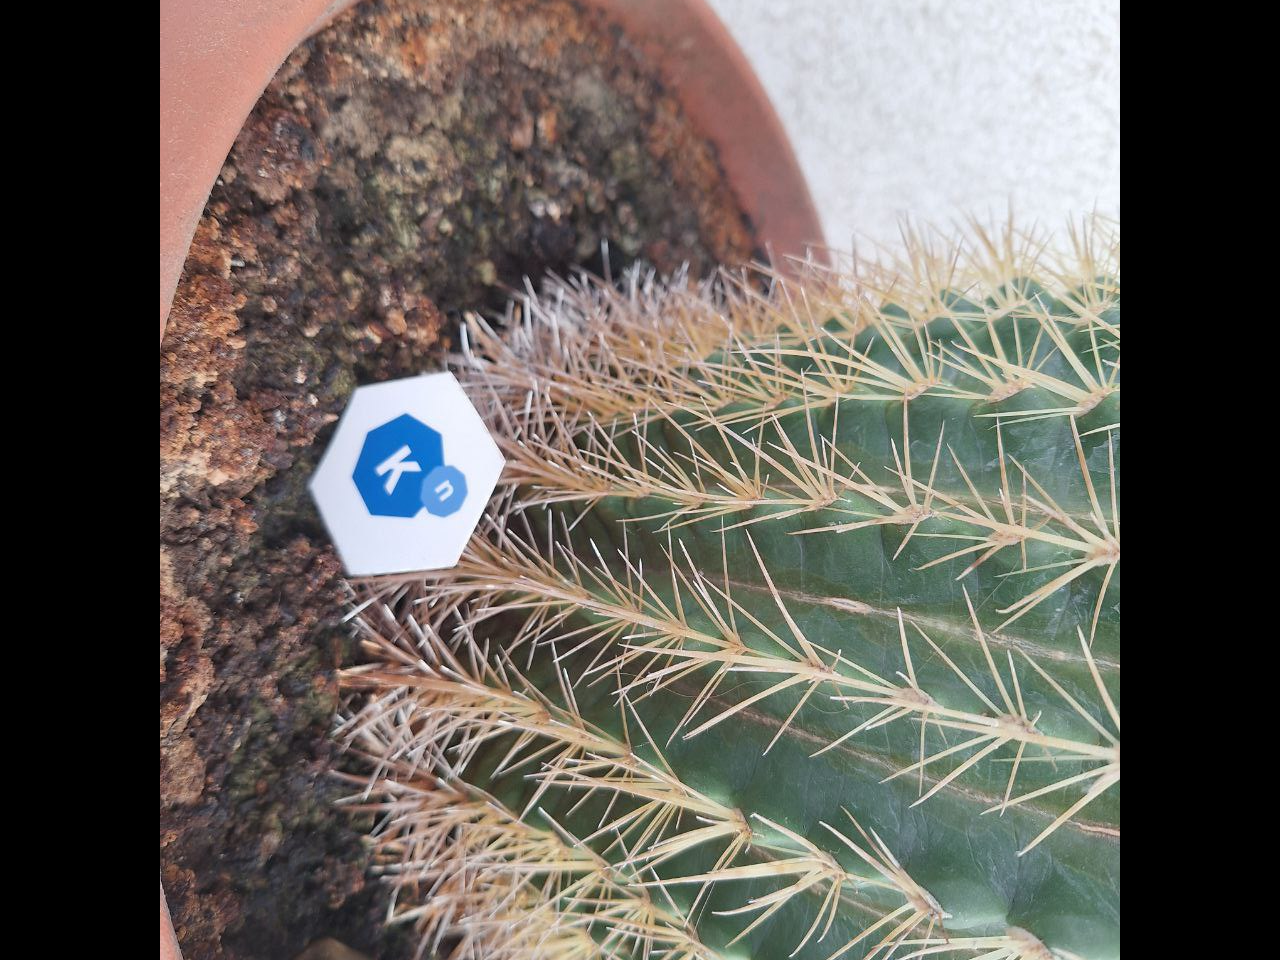knative: (349, 409, 469, 520)
